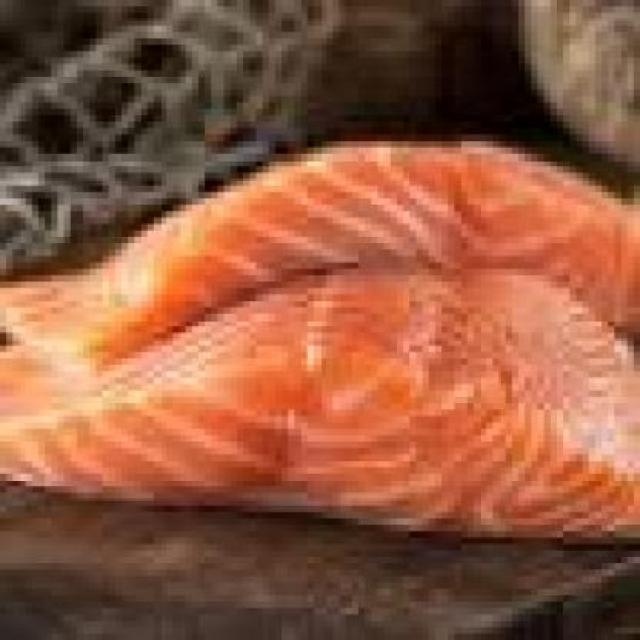salmon: (6, 249, 633, 550), (6, 121, 640, 384)
